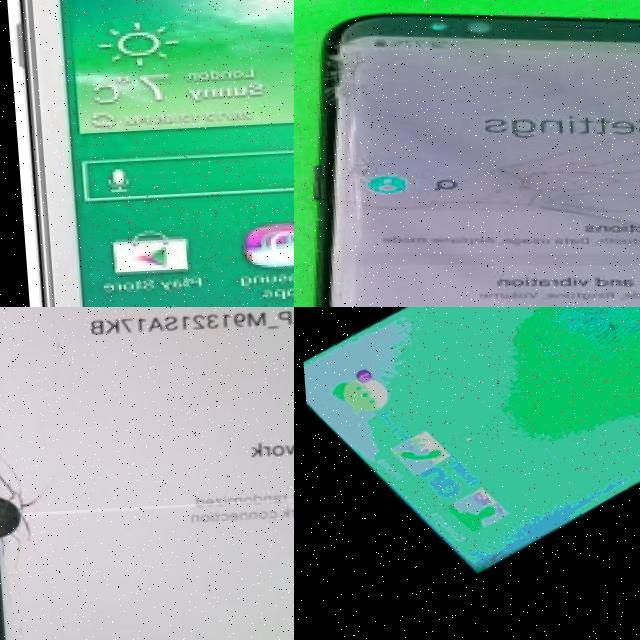dead pixel: (0, 493, 34, 548)
screen crack: (333, 137, 640, 304), (294, 7, 414, 116), (0, 439, 42, 572)
